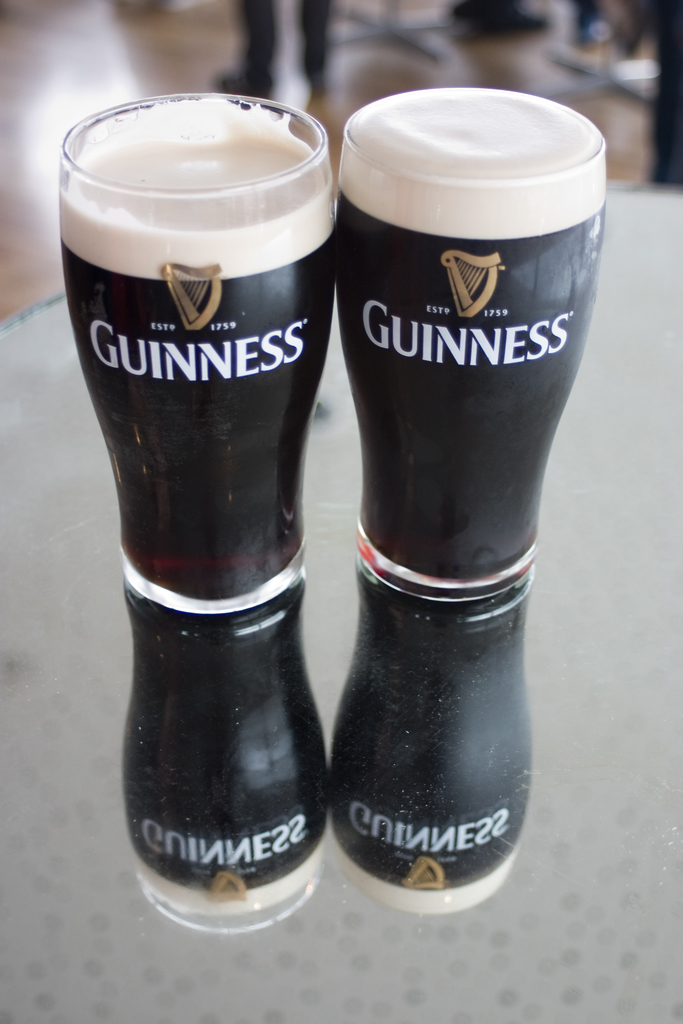Beer: (28, 83, 326, 632), (333, 81, 625, 608)
